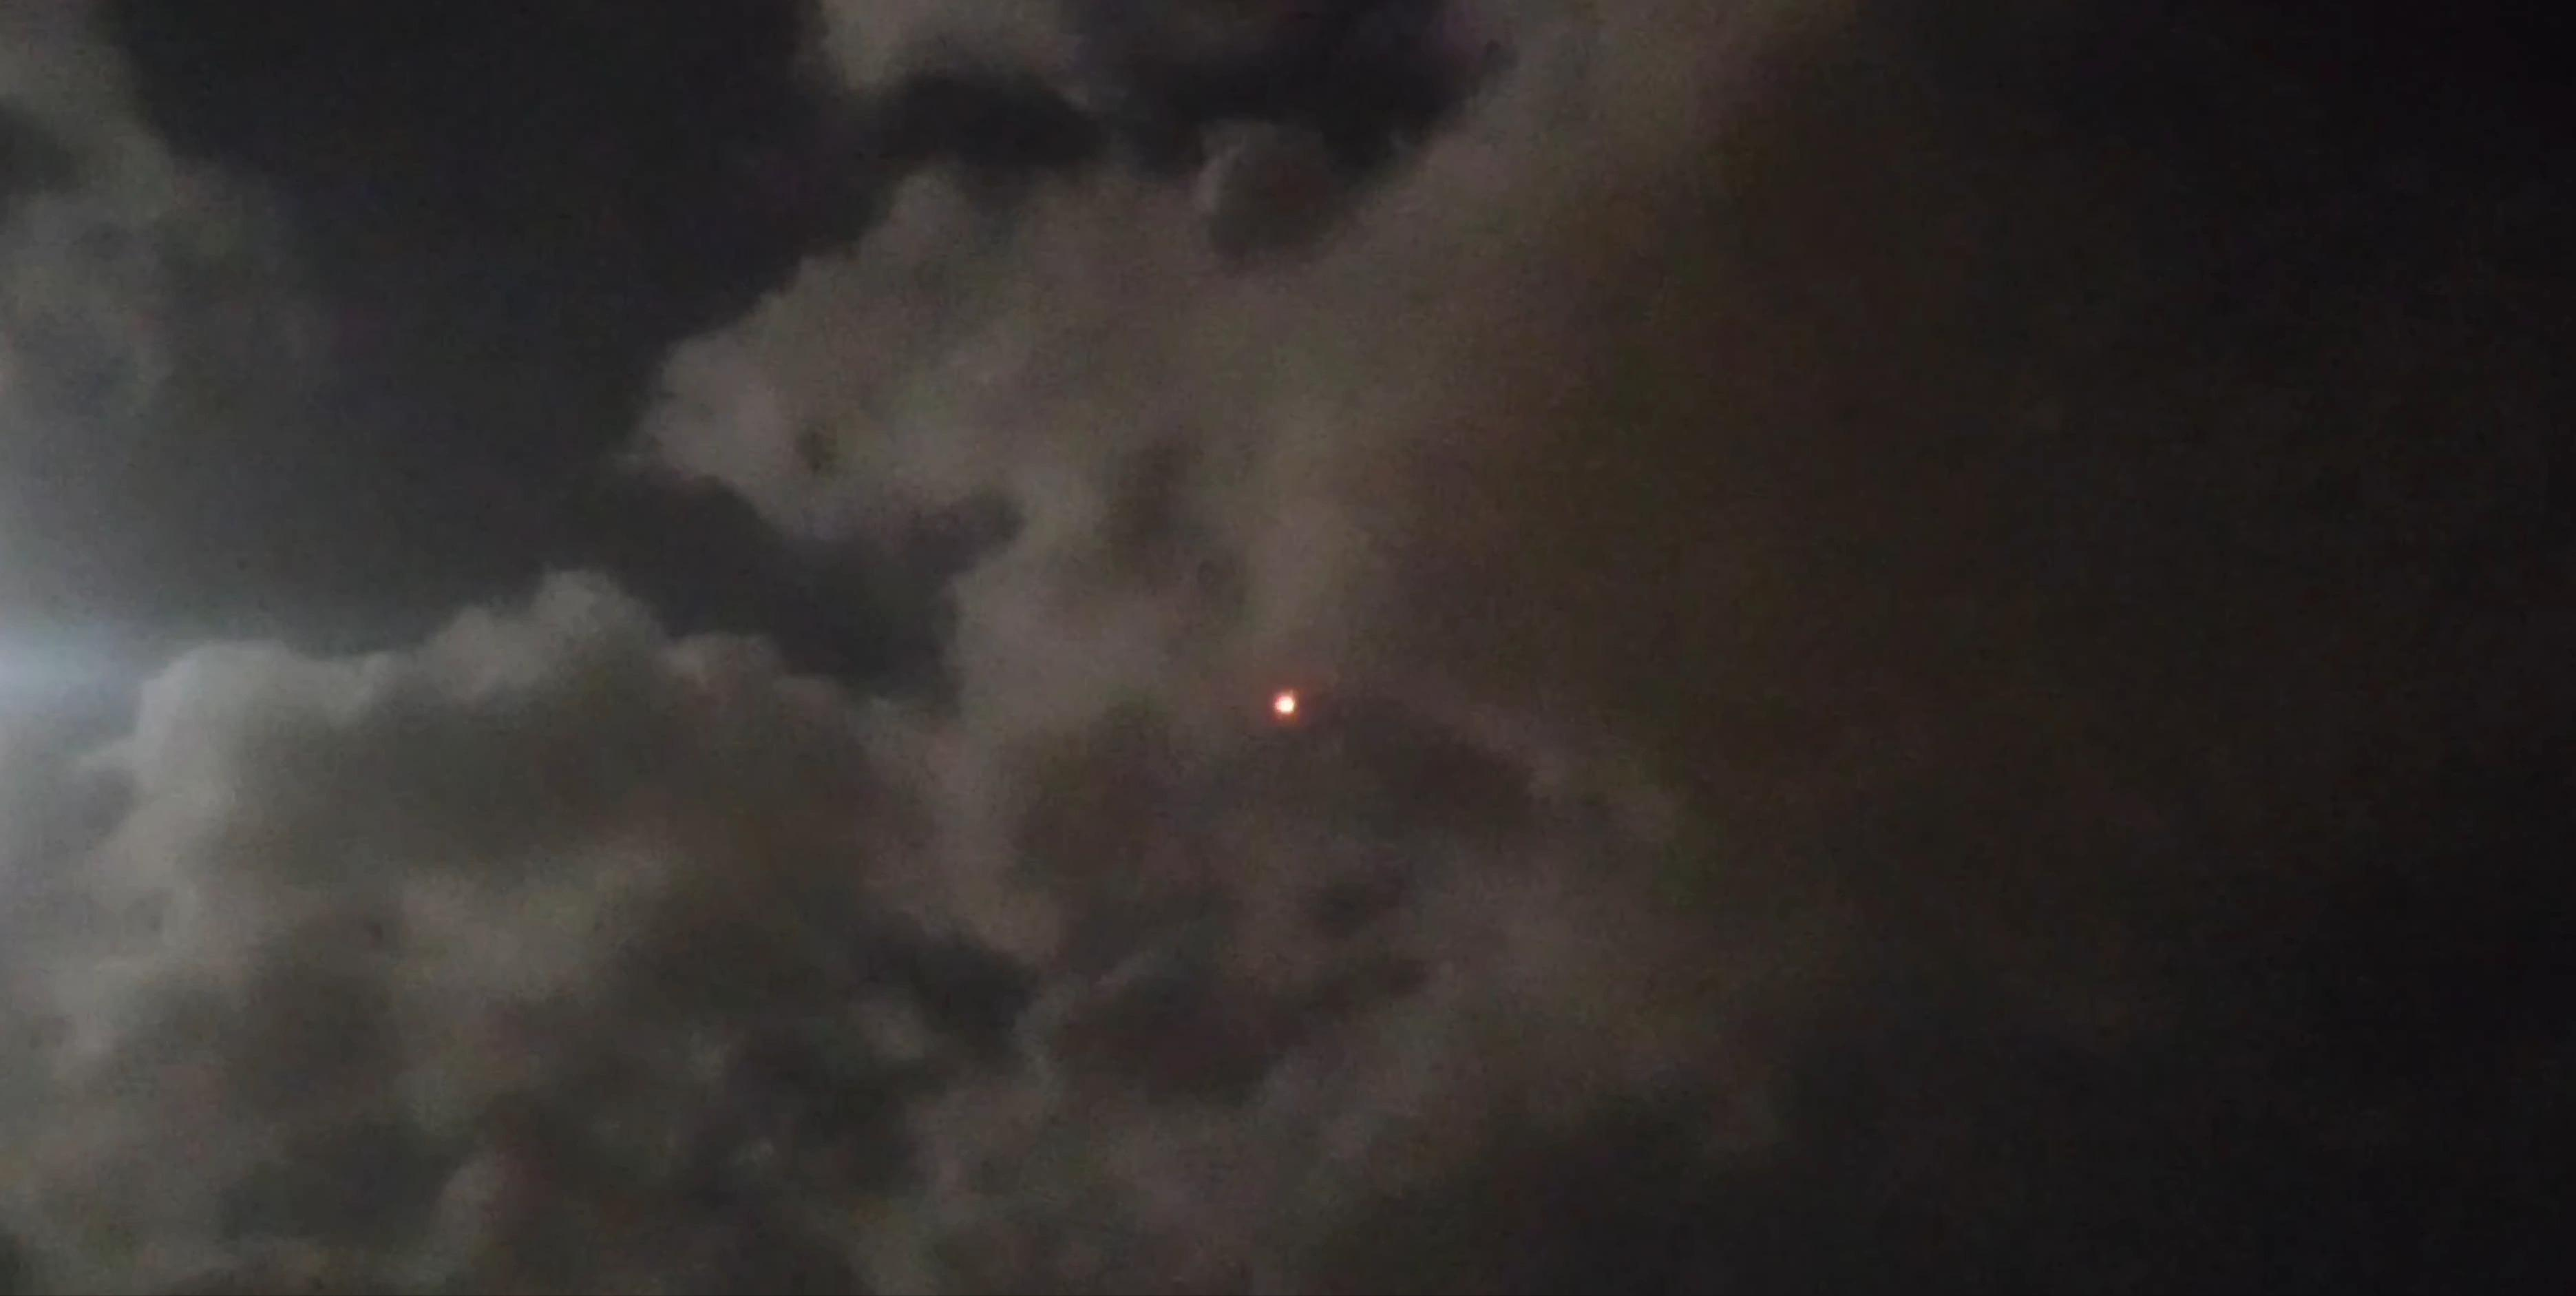Plane: (1248, 673, 1319, 746)
